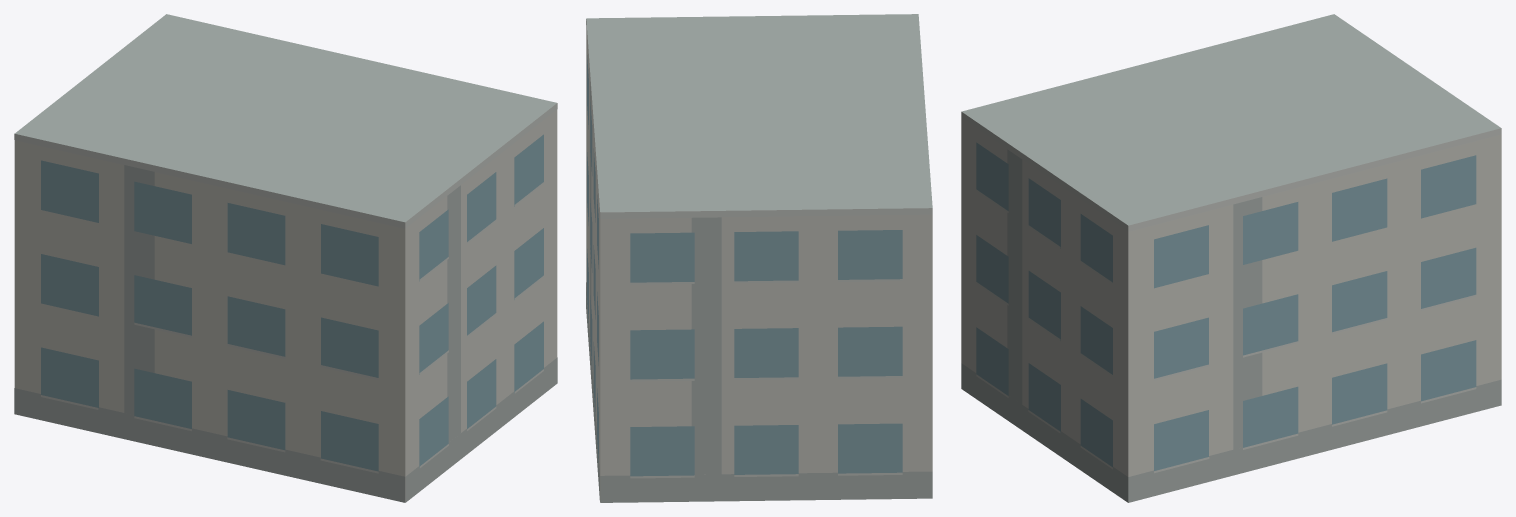
File: residential-c49ccbe3-dbe2-450f-871b-01c2a2fe11fd.glb
3 views of the same model, side by side, from view 1: azimuth 30°, elevation 25°; view 2: azimuth 150°, elevation 25°; view 3: azimuth 270°, elevation 25° (orthographic). The views are drawn at different scales.
Parts seen in each view (by area): view 1: residential-c49ccbe3-dbe2-450f-871b-01c2a2fe11fd.tmp; view 2: residential-c49ccbe3-dbe2-450f-871b-01c2a2fe11fd.tmp; view 3: residential-c49ccbe3-dbe2-450f-871b-01c2a2fe11fd.tmp.
Part boxes in pixels (<box>): residential-c49ccbe3-dbe2-450f-871b-01c2a2fe11fd.tmp: <box>14,14,557,502</box>; residential-c49ccbe3-dbe2-450f-871b-01c2a2fe11fd.tmp: <box>586,14,932,502</box>; residential-c49ccbe3-dbe2-450f-871b-01c2a2fe11fd.tmp: <box>961,14,1501,502</box>.
Bounding box in the file's own units: 17.61 × 10.75 × 18.99.
